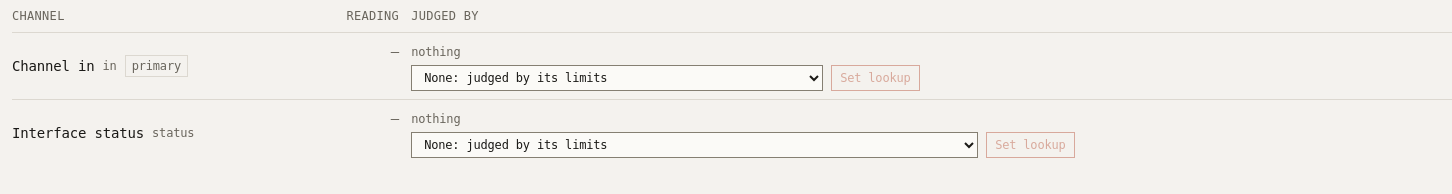
setting a channel’s lookup in the channel table (U-82) › says a refusal under the row, with its id, and what a changed sensor needs
Select "Interface operational status (ms.snmp.if-oper-status), declared by its type" in the dropdown named "Lookup for Interface status" at (695, 145), box [411, 132, 978, 158]
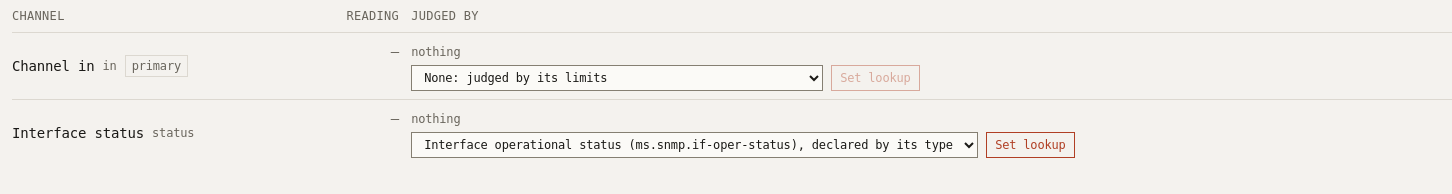
Click the button "Set lookup" in the row of "Interface status" at (1030, 145), box [986, 132, 1075, 158]
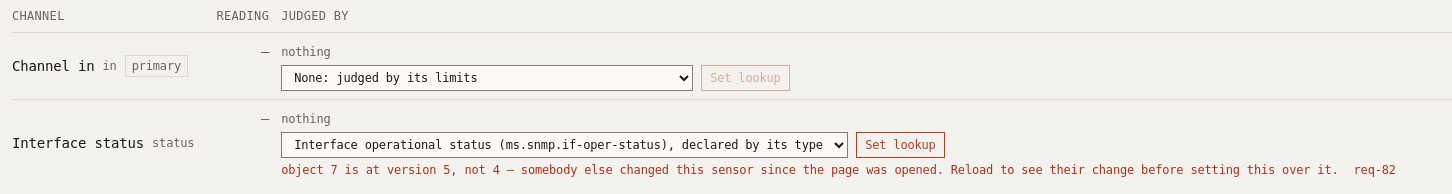
Result: the message shows "object 7 is at version 5, not 4" at [281, 163, 500, 177]
Result: the message shows "somebody else changed this sensor" at [500, 163, 1338, 177]
